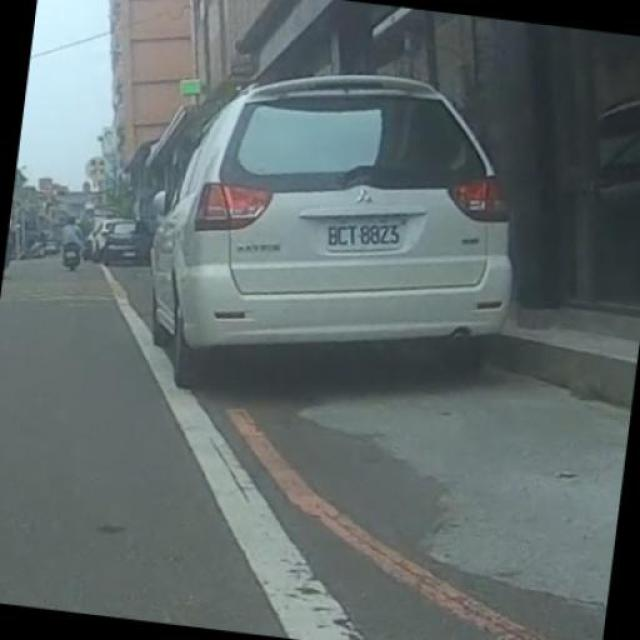Legalparking: (125, 67, 587, 424)
